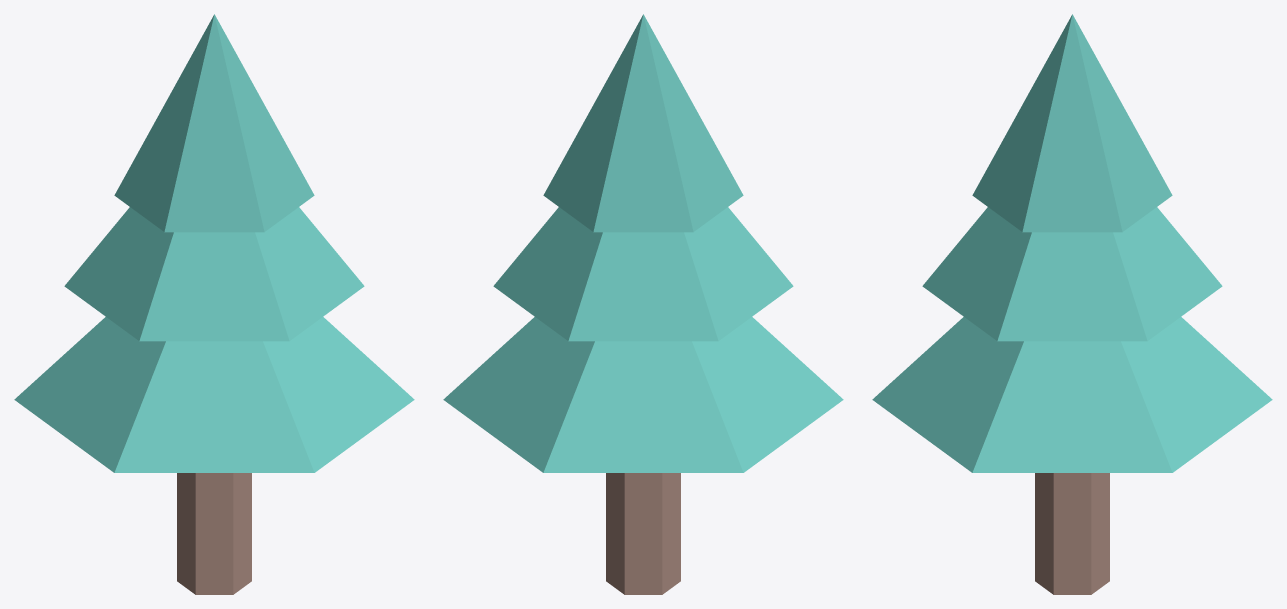
The model's file is low_poly_tree.glb.
The picture shows the model from 3 angles, left to right: view 1: azimuth 30°, elevation 25°; view 2: azimuth 150°, elevation 25°; view 3: azimuth 270°, elevation 25°; orthographic projection.
Visible parts, largest first — view 1: PineTree.001; view 2: PineTree.001; view 3: PineTree.001.
Part boxes in pixels (box(x1,y1,x2,y2)): PineTree.001: box(14, 14, 414, 594); PineTree.001: box(443, 14, 843, 594); PineTree.001: box(872, 14, 1272, 594).
Bounding box in the file's own units: 1.39 × 2.5 × 1.6.
